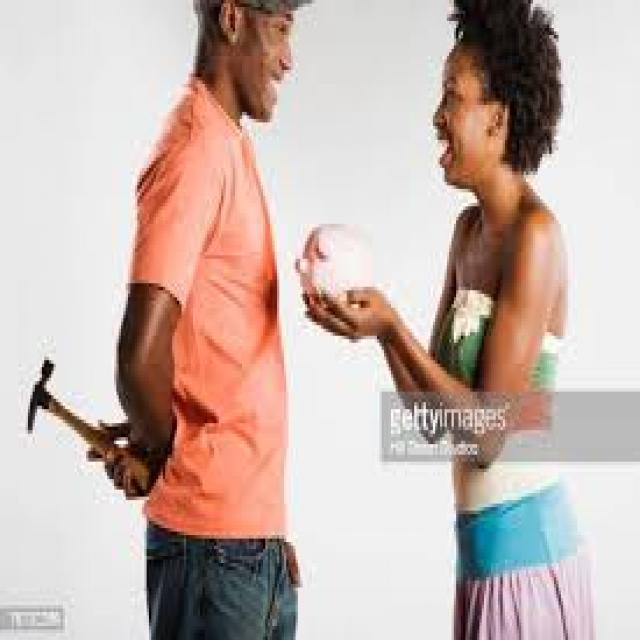hammer: (18, 344, 156, 502)
